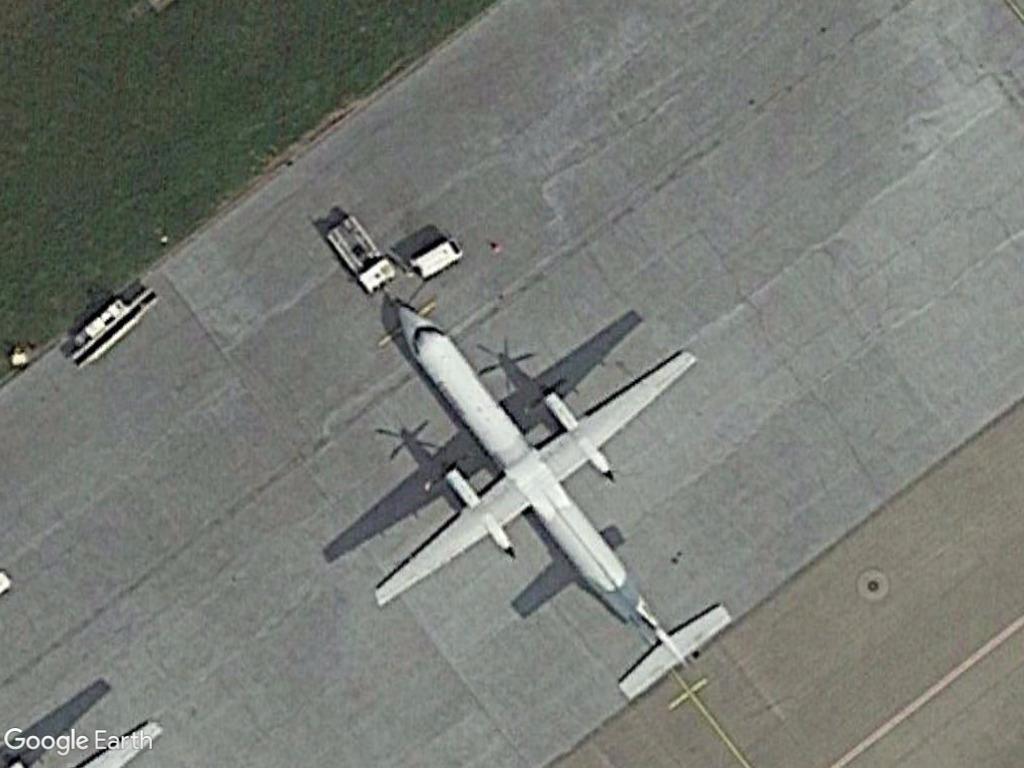propeller: (373, 298, 734, 715)
pushbacktruck: (323, 210, 400, 297)
